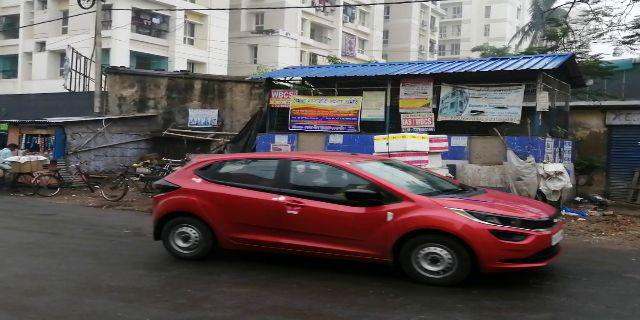Car: (151, 157, 564, 293)
